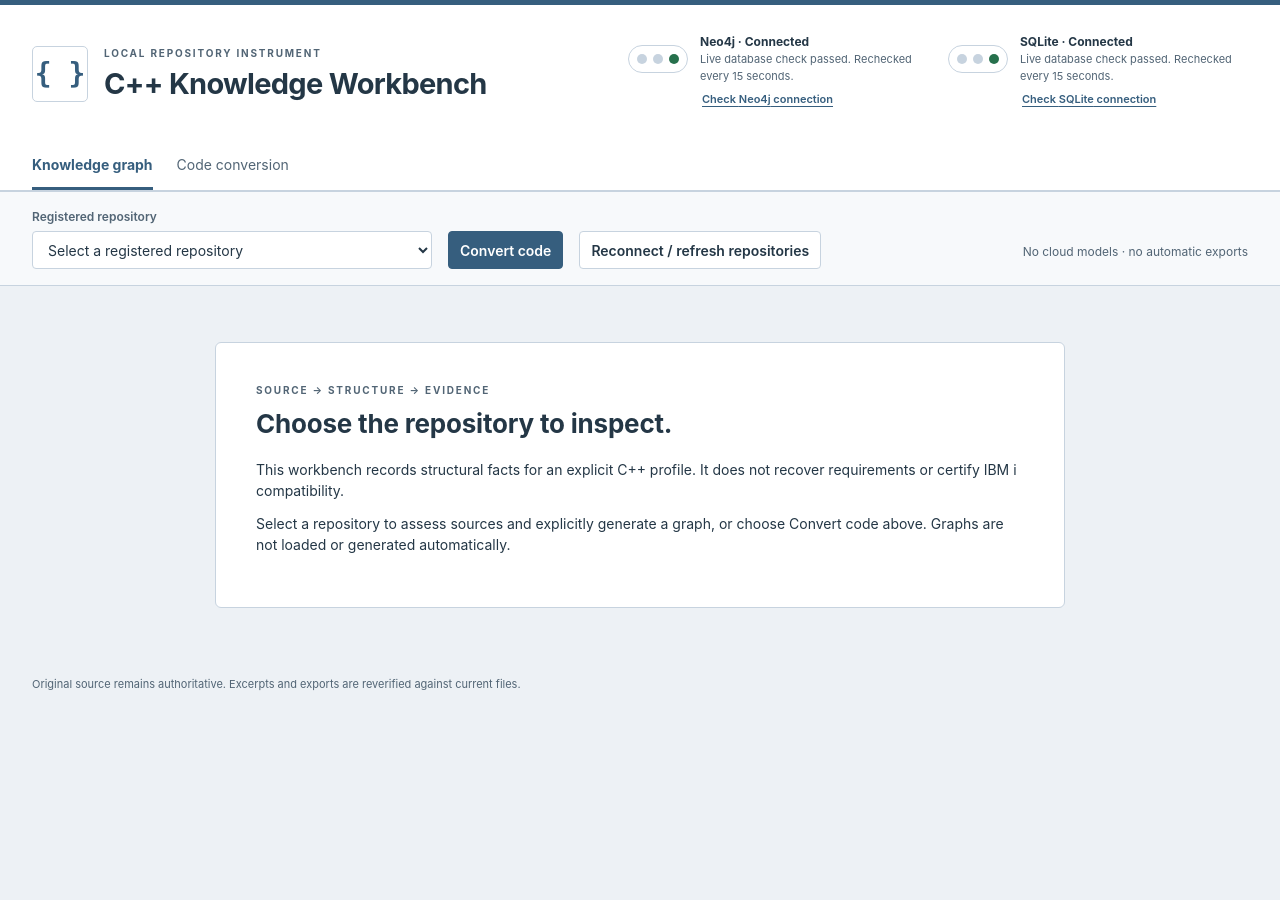
it: repository workflow › does not load, assess or generate graphs on mount, repository selection or refresh
The image size is (1280, 900).
Expected: the text "Neo4j · Connected" is shown, [700,34,809,49]
Expected: the text "SQLite · Connected" is shown, [1020,34,1133,49]
Select "First repo · registered" in the dropdown labelled "Registered repository" at (232, 250), box [32,231,432,269]
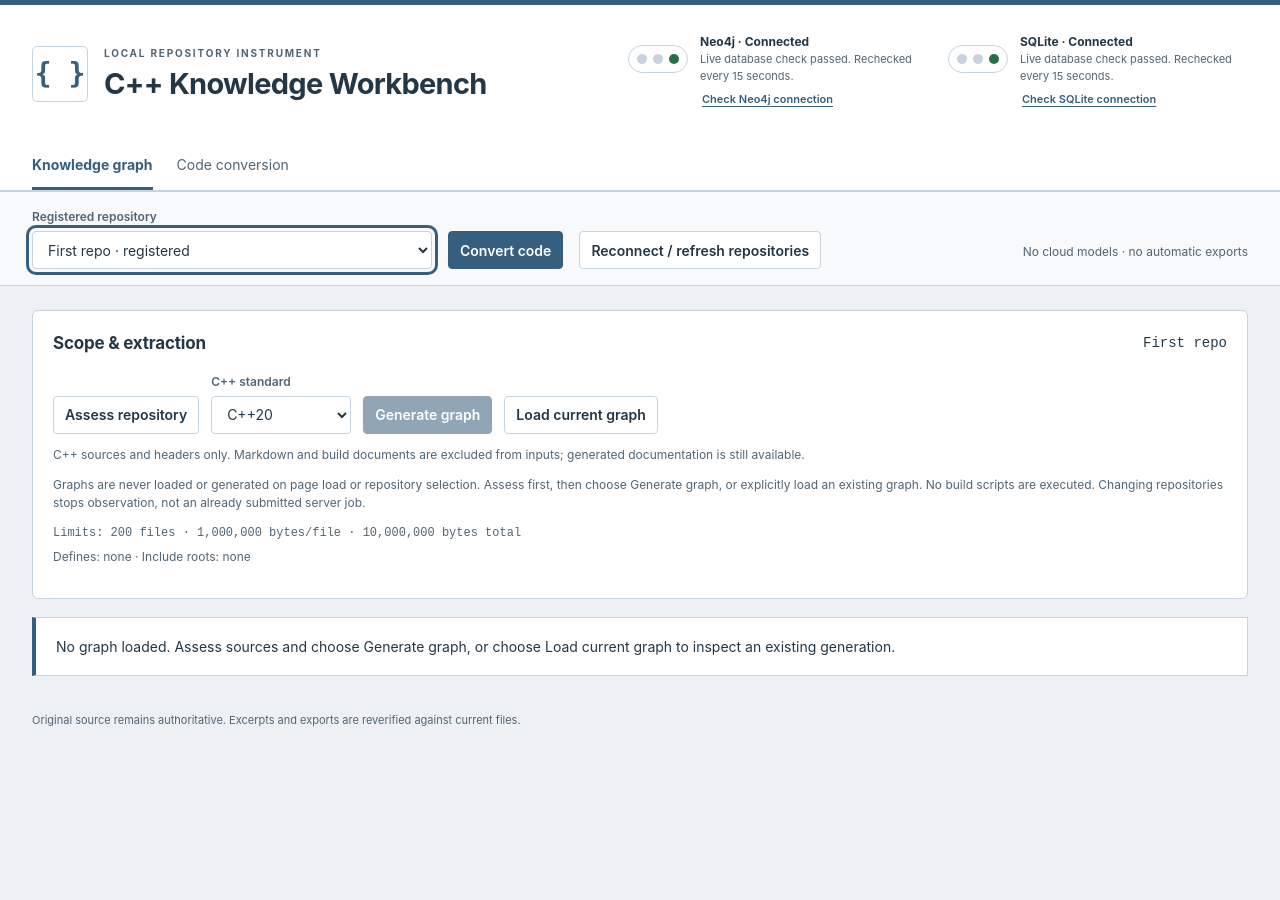
Now the text "No graph loaded" is shown, box [56,638,895,654]
Select "Second repo · registered" in the dropdown labelled "Registered repository" at (232, 250), box [32,231,432,269]
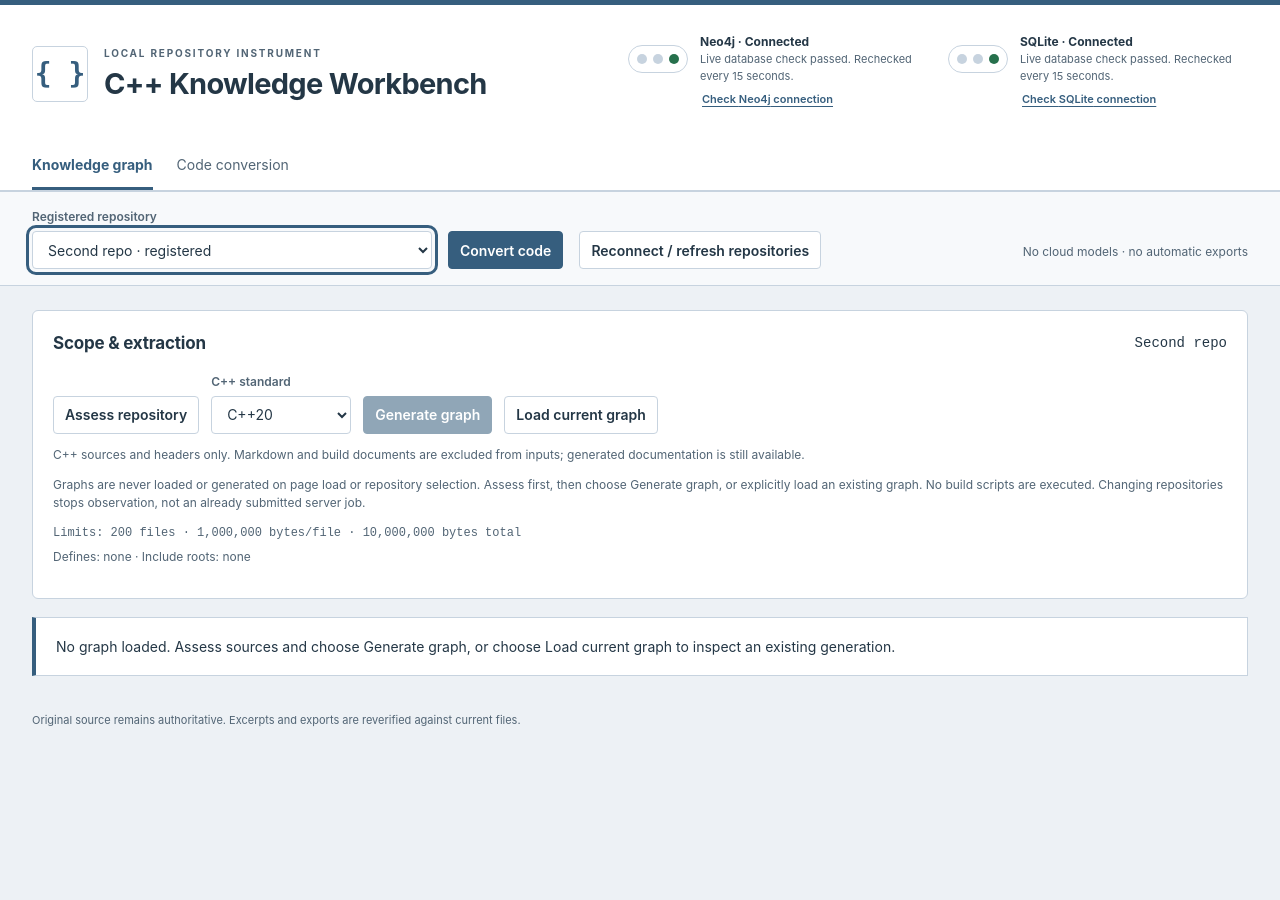
Click the button "Reconnect / refresh repositories".
click(700, 250)  # box [579,231,821,269]
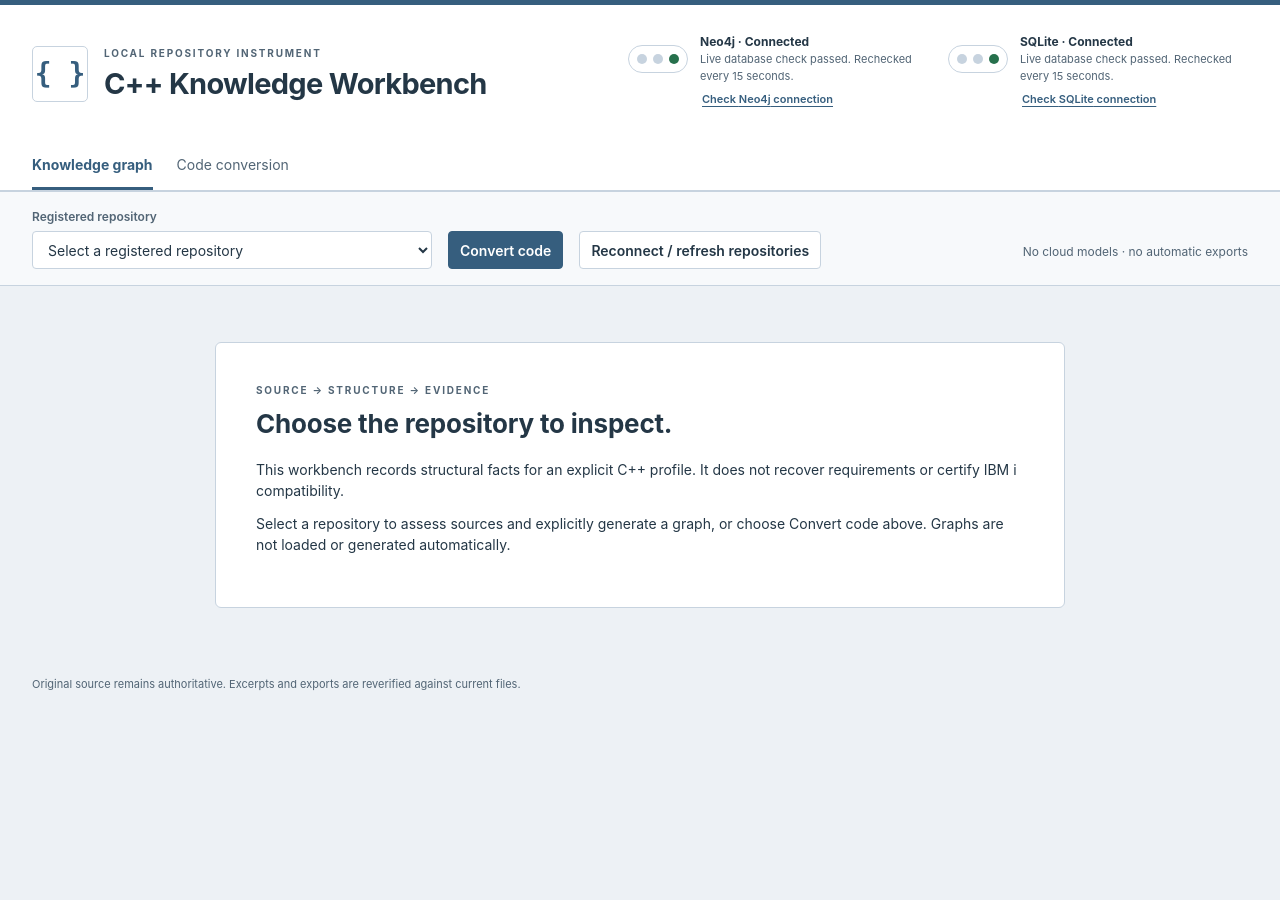
Select "First repo · registered" in the dropdown labelled "Registered repository" at (232, 250), box [32,231,432,269]
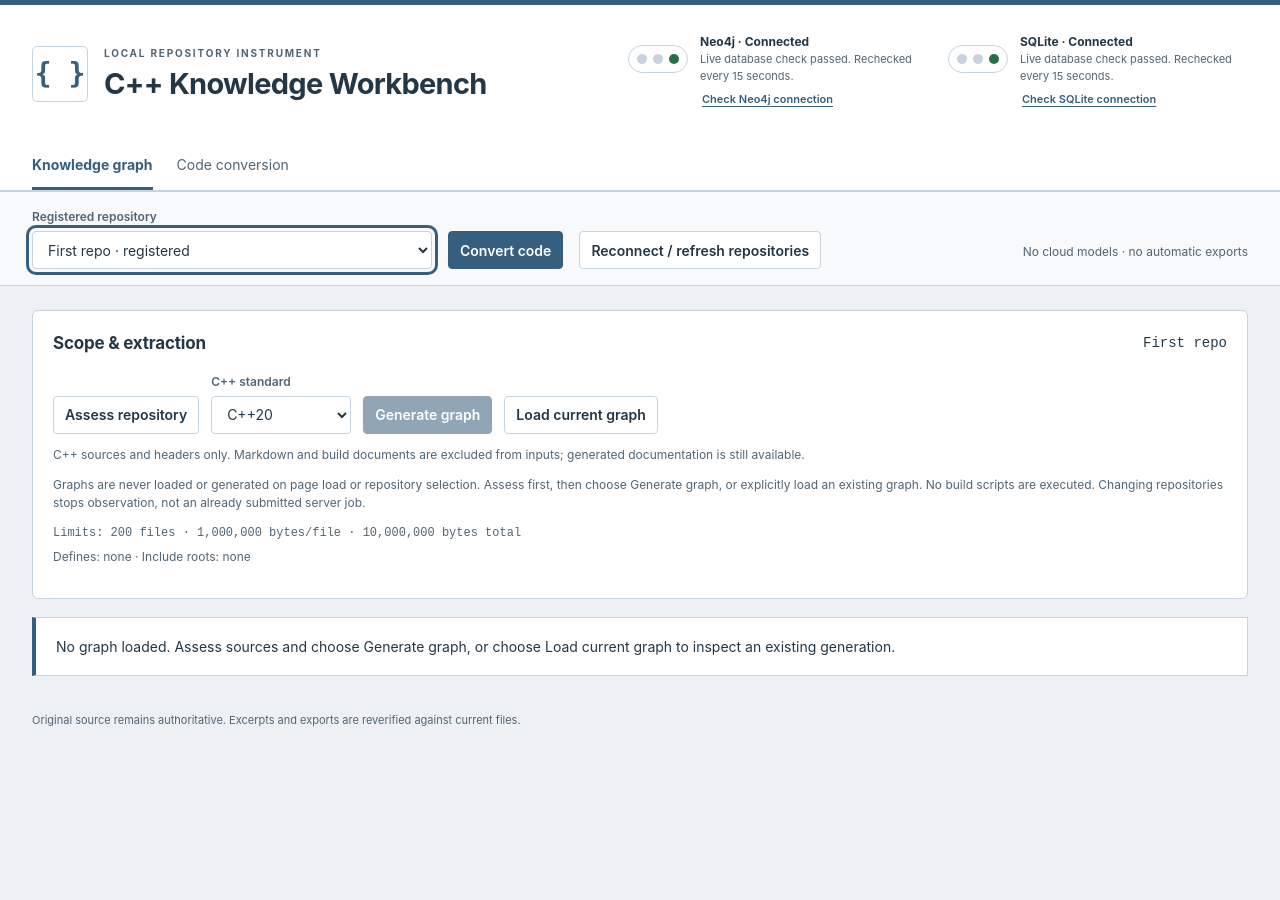
Click the button "Load current graph".
click(581, 414)  # box [504,396,658,434]
(page scrolled)
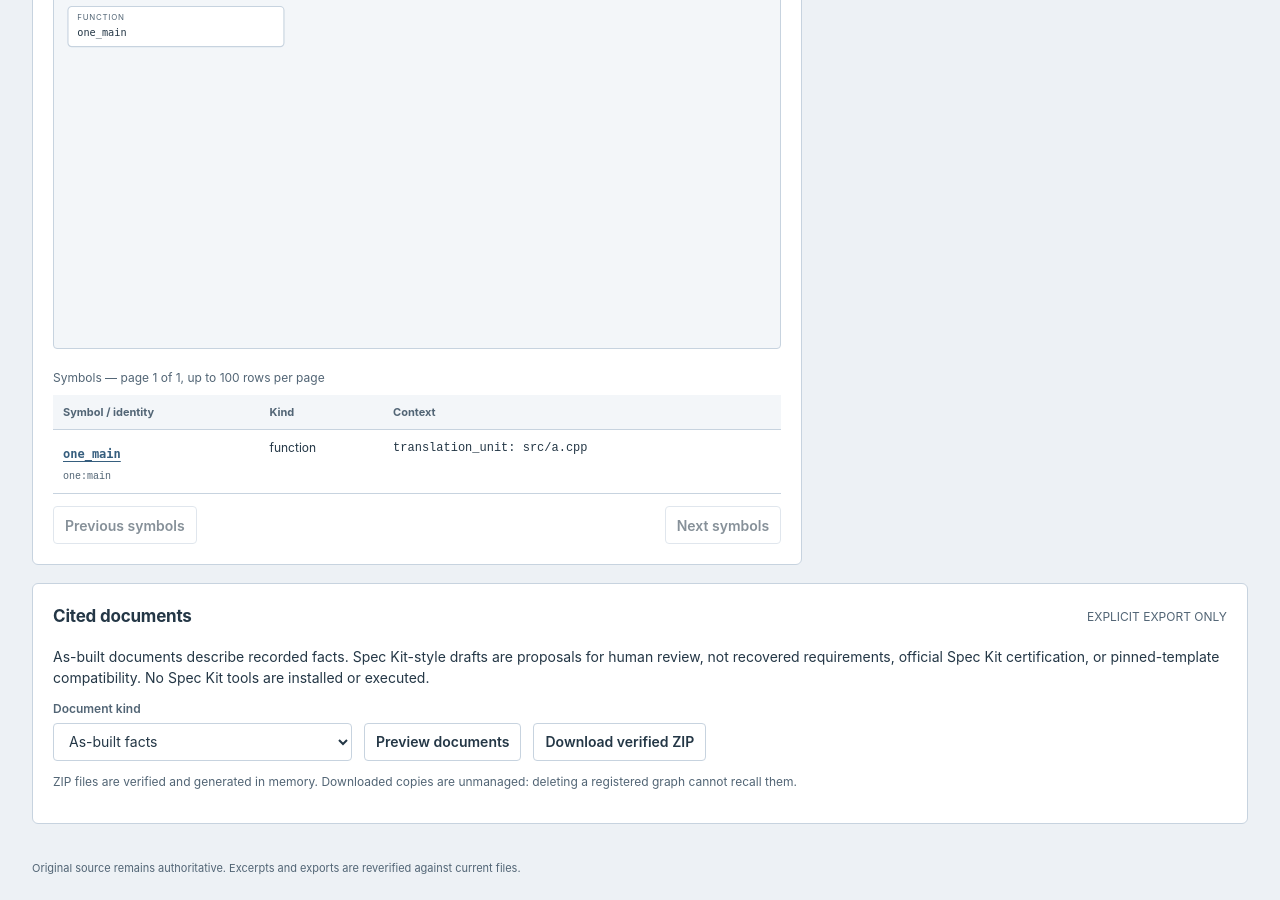
Now the button "one_main" is shown, box [63,439,121,469]
